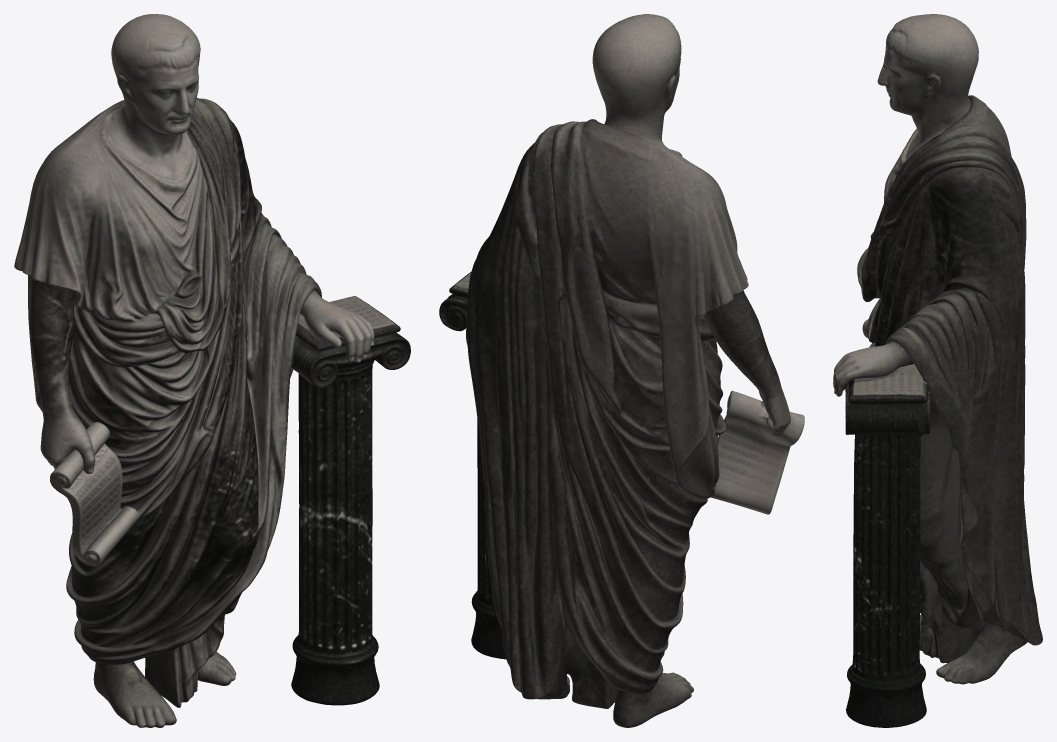
The model's file is perfect-integrator.glb.
3 views of the same model, side by side, from view 1: azimuth 30°, elevation 25°; view 2: azimuth 150°, elevation 25°; view 3: azimuth 270°, elevation 25° (orthographic). The views are drawn at different scales.
Bounding box in the file's own units: 1 × 1.9 × 0.577.
Materials: 1 (1 with a texture image).
